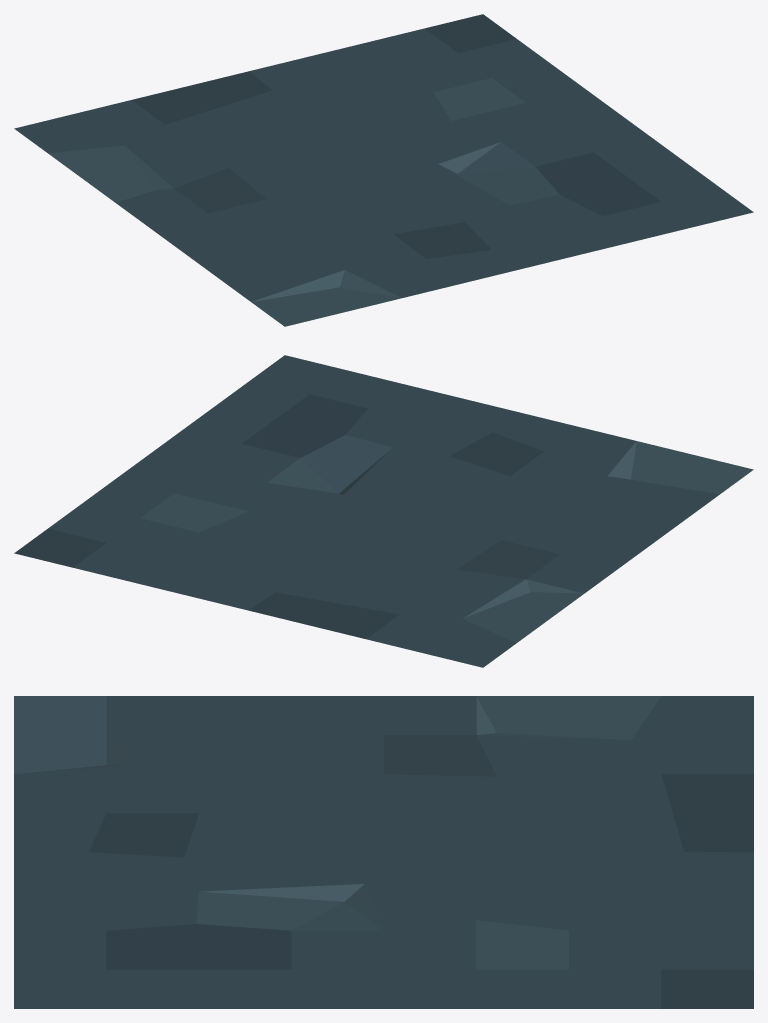
The model's file is wall_4m_bottom.fbx.
3 views of the same model, one above another, from view 1: azimuth 30°, elevation 25°; view 2: azimuth 150°, elevation 25°; view 3: azimuth 270°, elevation 25° (orthographic). The views are drawn at different scales.
Parts seen in each view (by area): view 1: wall_4m_bottom; view 2: wall_4m_bottom; view 3: wall_4m_bottom.
Boxes of the visible parts, x1,y1,x2,y2 form: wall_4m_bottom: [14, 14, 753, 326]; wall_4m_bottom: [14, 355, 753, 667]; wall_4m_bottom: [14, 696, 753, 1008].
Bounding box in the file's own units: 400 × 5.81 × 400.
